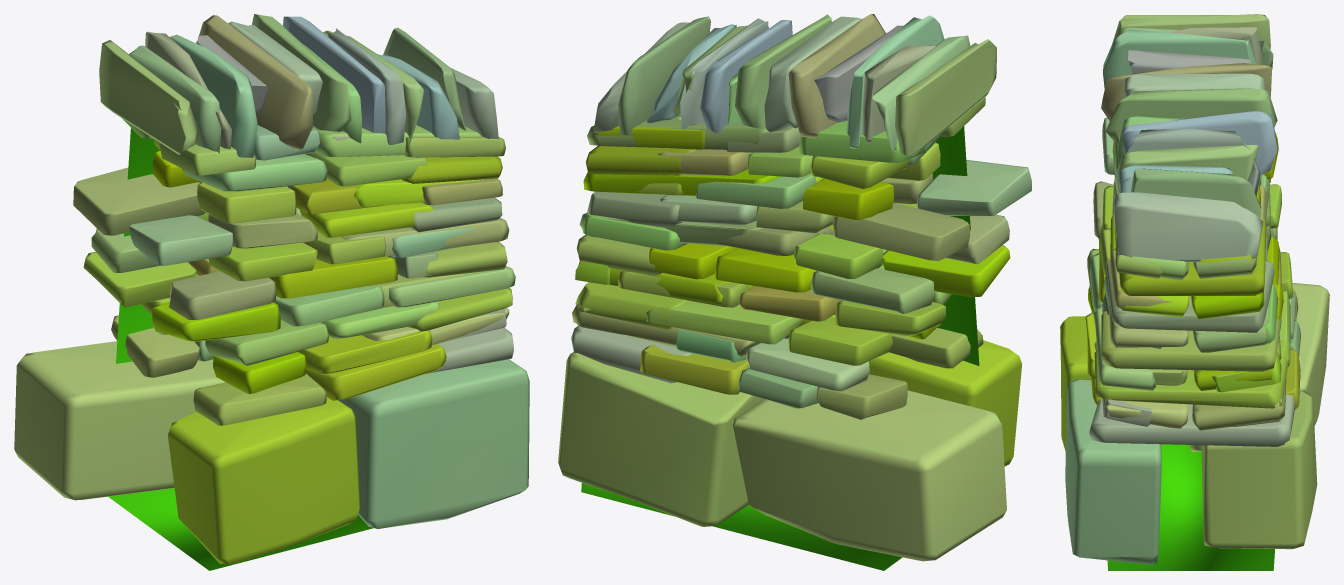
Rendered from SM_Prop_wall_end_7.glb.
3 renders of one model, left to right at view 1: azimuth 30°, elevation 25°; view 2: azimuth 150°, elevation 25°; view 3: azimuth 270°, elevation 25°, orthographic. The views are drawn at different scales.
Parts seen in each view (by area): view 1: SM_Prop_wall_end_7; view 2: SM_Prop_wall_end_7; view 3: SM_Prop_wall_end_7.
Boxes of the visible parts, bbox=[...] form: SM_Prop_wall_end_7: bbox=[14, 14, 529, 570]; SM_Prop_wall_end_7: bbox=[558, 14, 1031, 570]; SM_Prop_wall_end_7: bbox=[1060, 14, 1329, 570].
Size of the model in its own units: 1.26 by 1.44 by 0.8238.
